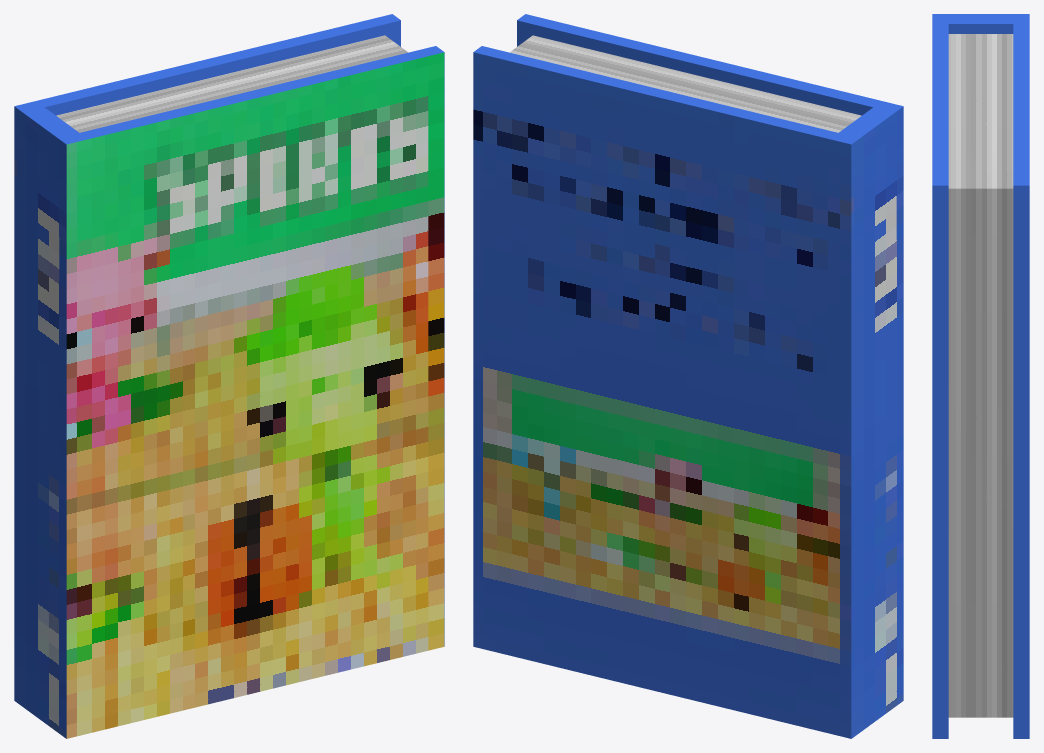
File: book_blue_02.fbx
3 views of the same model, side by side, from view 1: azimuth 30°, elevation 25°; view 2: azimuth 150°, elevation 25°; view 3: azimuth 270°, elevation 25° (orthographic). The views are drawn at different scales.
Parts seen in each view (by area): view 1: Book_Blue_2; view 2: Book_Blue_2; view 3: Book_Blue_2.
Part boxes in pixels (box(x1,y1,x2,y2)): Book_Blue_2: box(14, 14, 444, 738); Book_Blue_2: box(473, 14, 903, 738); Book_Blue_2: box(932, 14, 1029, 738).
Bounding box in the file's own units: 15.92 × 23.91 × 3.81.
